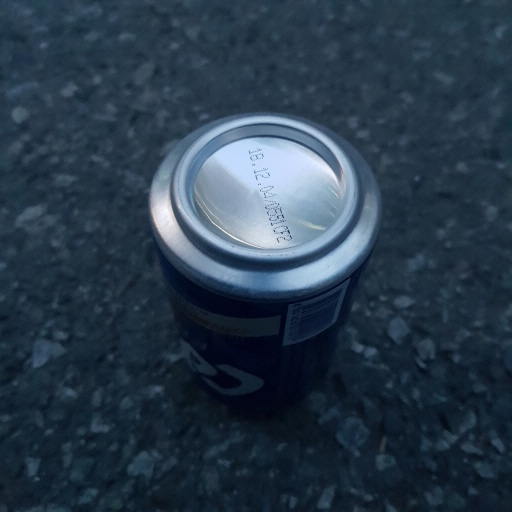Metal_0: (146, 105, 381, 410)
